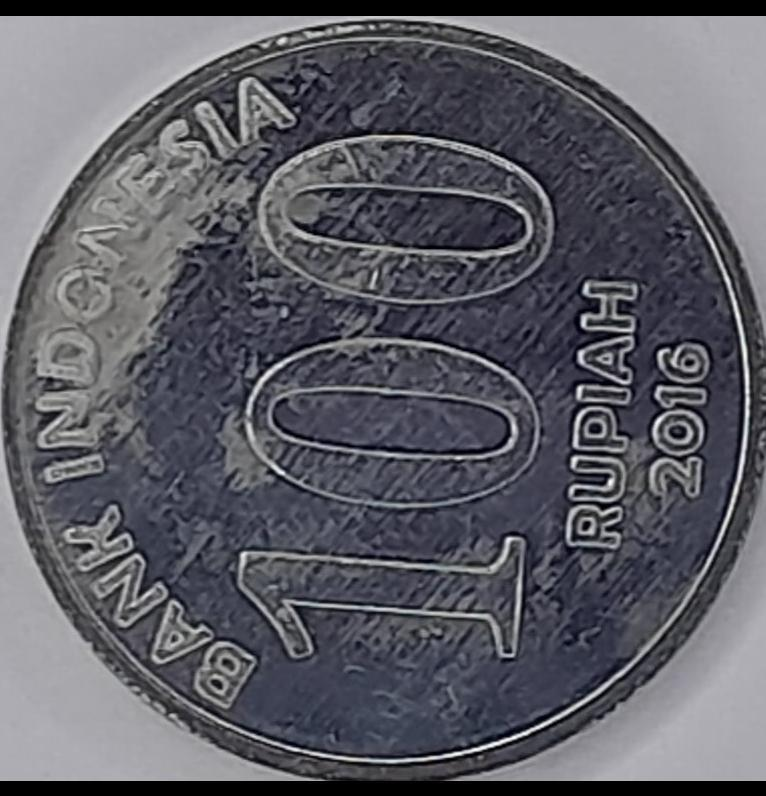coin_100_e2016: (0, 13, 765, 781)
